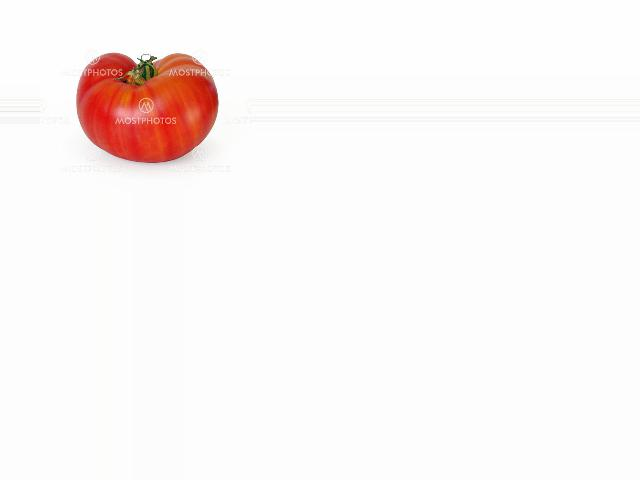tomato: (77, 52, 218, 162)
